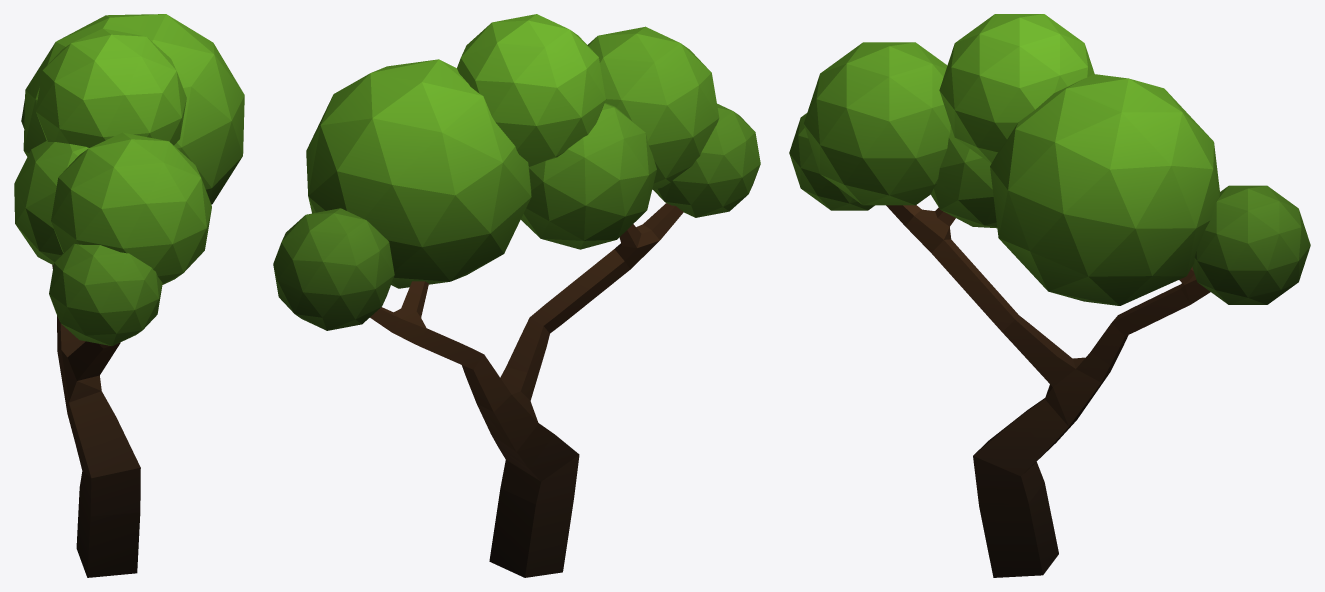
File: Arvore3.fbx
3 renders of one model, left to right at view 1: azimuth 30°, elevation 25°; view 2: azimuth 150°, elevation 25°; view 3: azimuth 270°, elevation 25°, orthographic. The views are drawn at different scales.
Parts seen in each view (by area): view 1: Cube; view 2: Cube; view 3: Cube.
Boxes of the visible parts, <box> form: Cube: <box>14,14,244,577</box>; Cube: <box>273,14,760,577</box>; Cube: <box>789,14,1310,577</box>.
Size of the model in its own units: 854 by 580 by 1000.
Materials: 2 (2 with a texture image).
